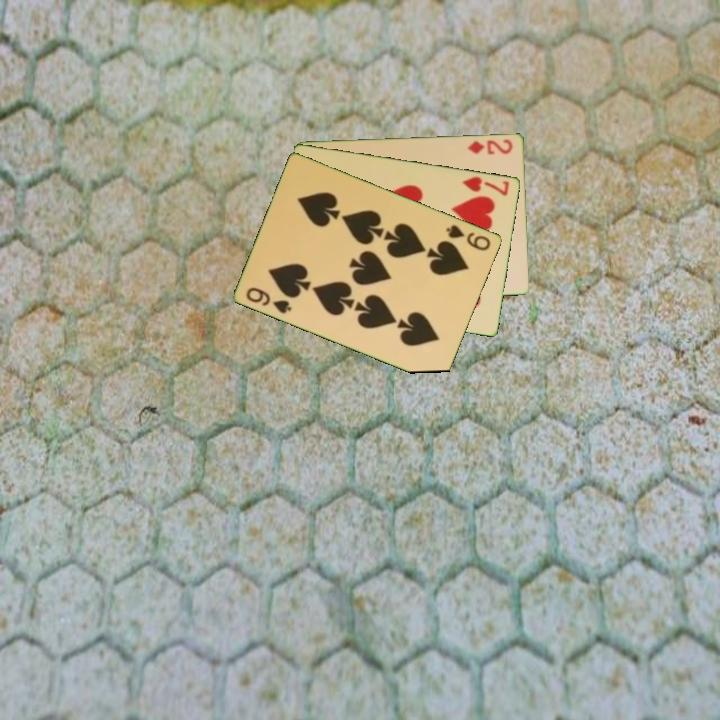2d: (464, 136, 516, 157)
7h: (458, 172, 512, 198)
9s: (243, 283, 295, 316), (443, 221, 494, 253)
